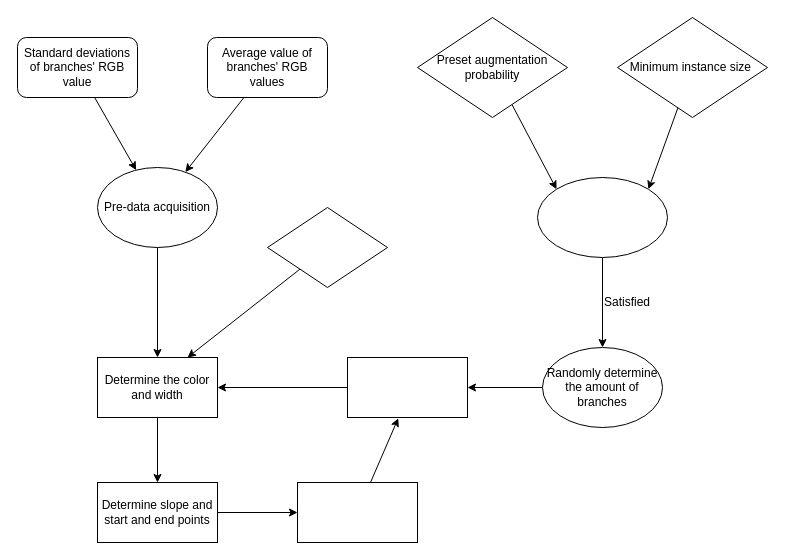
Some shapes in this 785 by 560 pixel diagram are drawn without their labels. Each missing label, with the centre of its shape:
"Determine whether a bird instances will be augmented" goes at point (602, 217).
"Draw a branch" goes at point (357, 512).
"instance size" goes at point (327, 247).
"Select center point within the bounding box" goes at point (407, 387).
